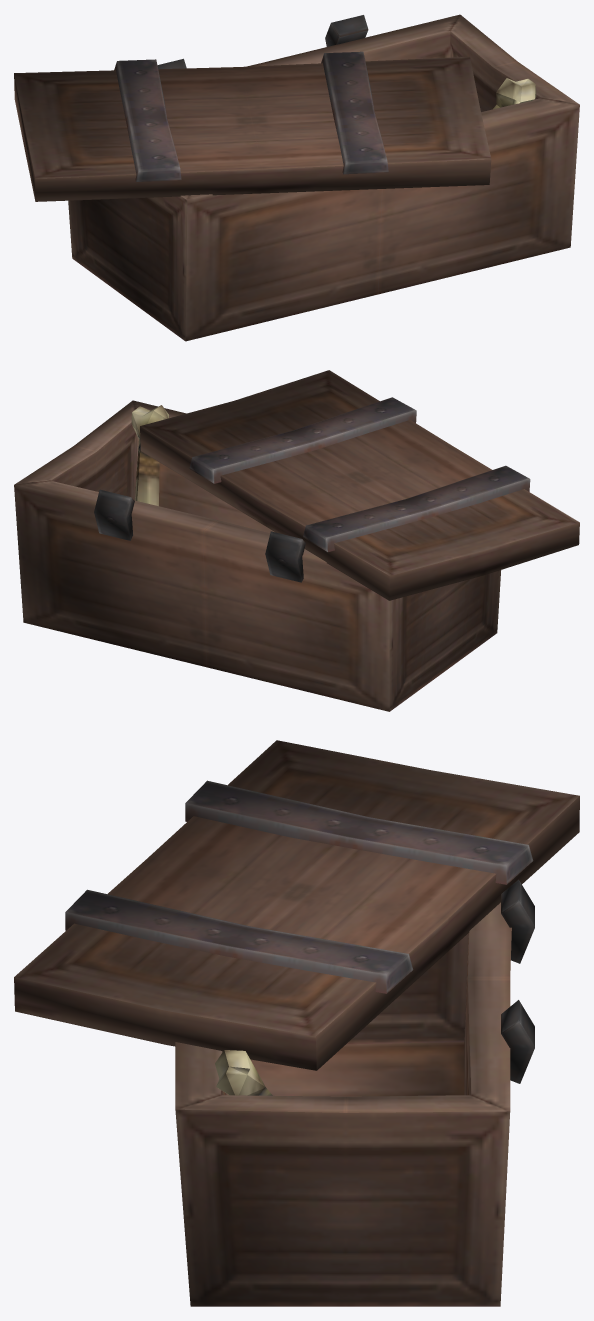
Rendered from FB6_jiumuxiang_2.FBX.
3 renders of one model, top to bottom at view 1: azimuth 30°, elevation 25°; view 2: azimuth 150°, elevation 25°; view 3: azimuth 270°, elevation 25°, orthographic. The views are drawn at different scales.
Visible parts, largest first — view 1: FB6_jiumuxiang_2; view 2: FB6_jiumuxiang_2; view 3: FB6_jiumuxiang_2.
Boxes of the visible parts, left/top/right/bottom form: FB6_jiumuxiang_2: left=14, top=14, right=579, bottom=341; FB6_jiumuxiang_2: left=14, top=370, right=579, bottom=711; FB6_jiumuxiang_2: left=14, top=740, right=579, bottom=1306.
Size of the model in its own units: 233 by 77.19 by 164.
1 material, 1 textured.
